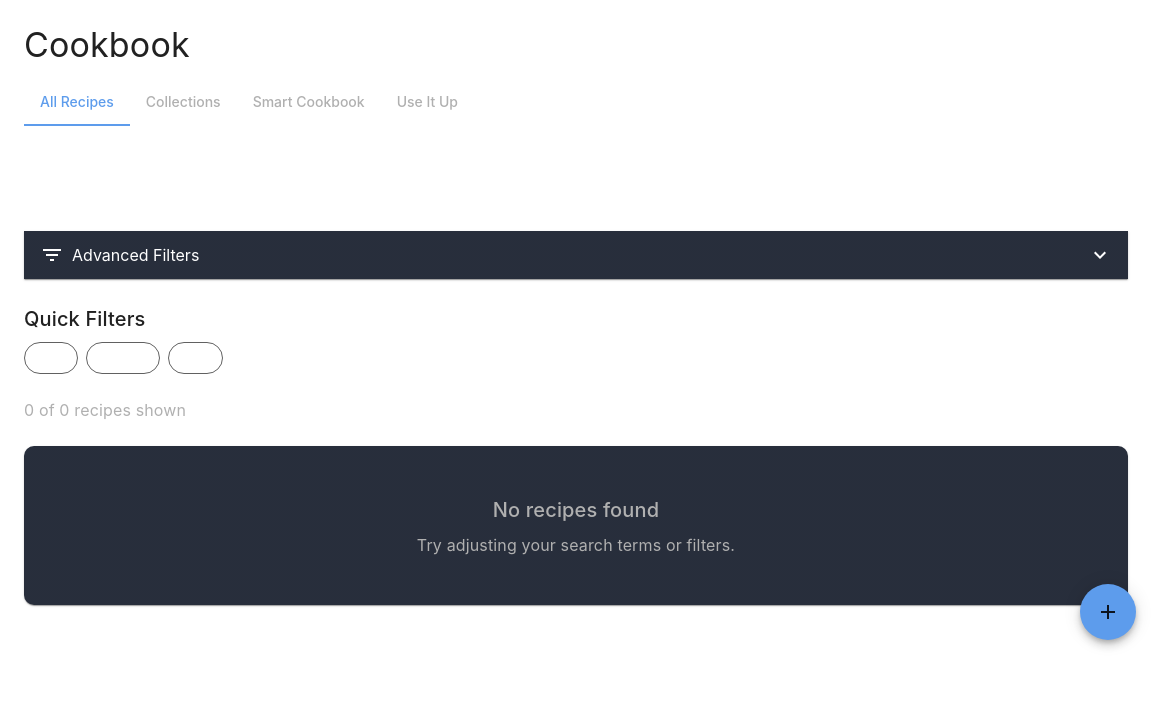
Scenario: Cookbook page › Use It Up tab › shows an empty state when there are no expiring pantry items
Click the tab with test id "cookbook-tab-use-it-up" at x=427, y=102, box [381,78,474,126]
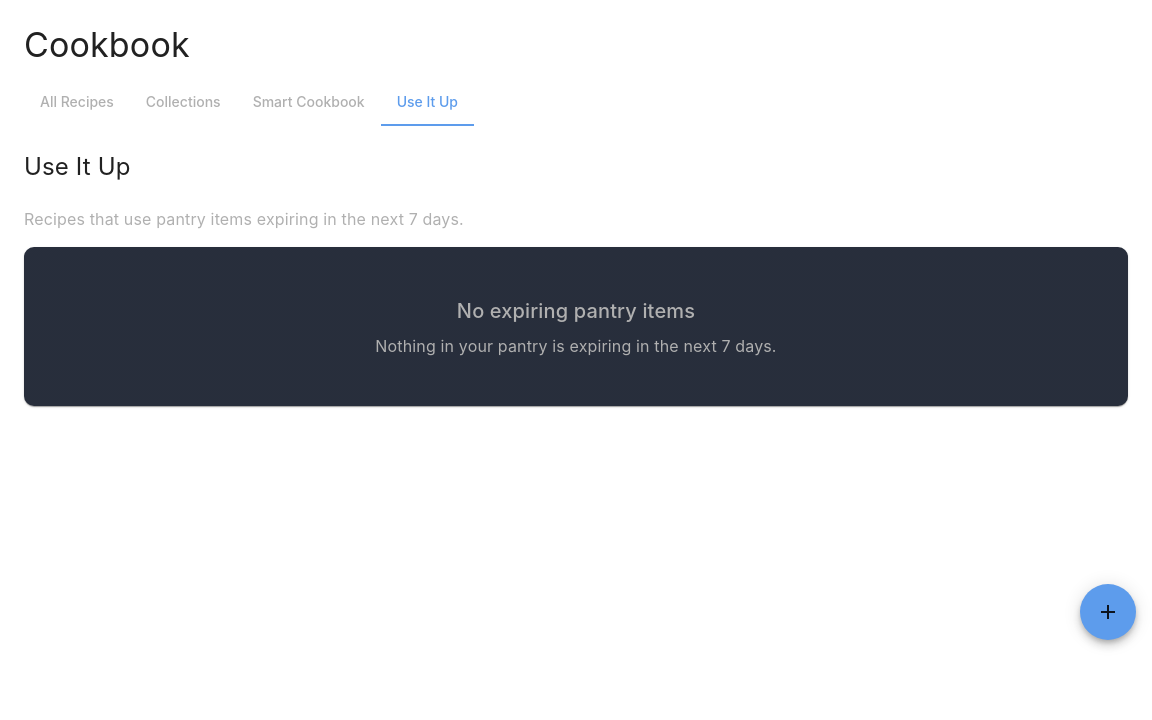
Check: the element with test id "cookbookPage-useItUp-text-noExpiring" shows "No expiring pantry items", box [457,299,695,323]
